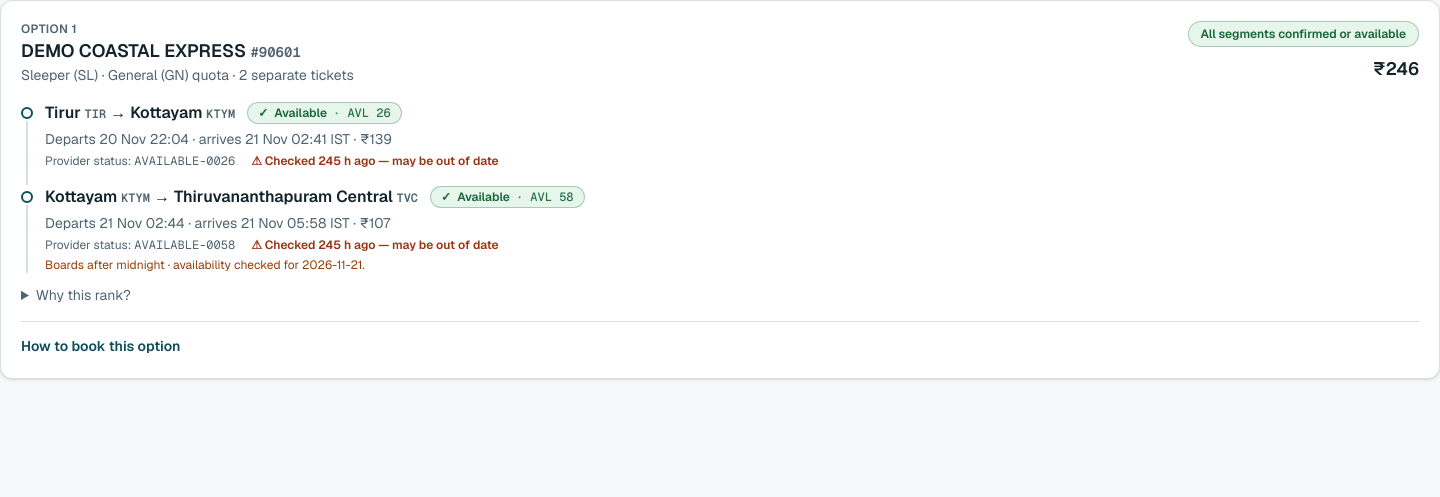
Scenario: RecommendationCard › shows every segment with status, and booking steps on demand
Expected: the heading "DEMO COASTAL EXPRESS #90601" is shown, x1=21 y1=39 x2=301 y2=62
What coordinates should you click on to do the following:
click the button "How to book this option"
I would click on:
 (101, 346)
Its box is x1=21 y1=336 x2=180 y2=356.
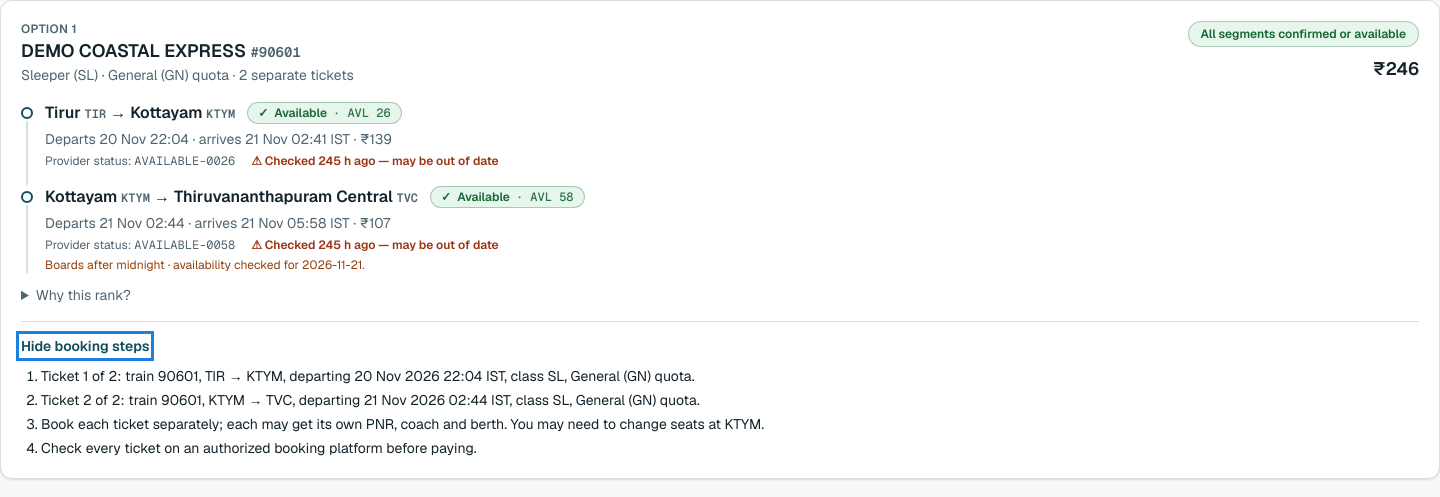
Expected: the list item "Ticket 1 of 2" is shown, x1=41 y1=367 x2=695 y2=385
